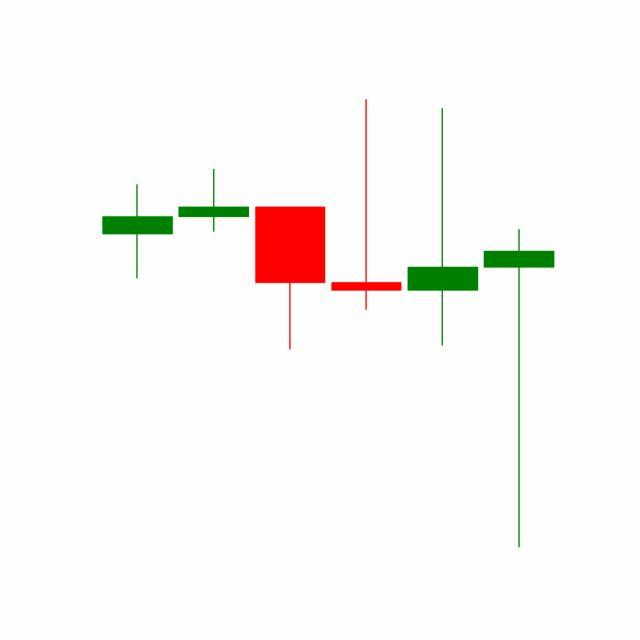Spinning Top: (404, 105, 482, 349)
